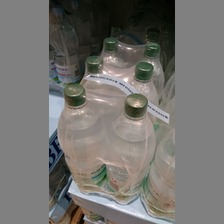water: (104, 94, 155, 205), (56, 83, 105, 194)
